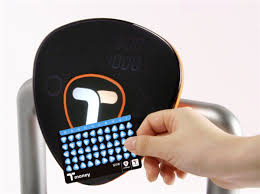terminal: (30, 16, 185, 188)
